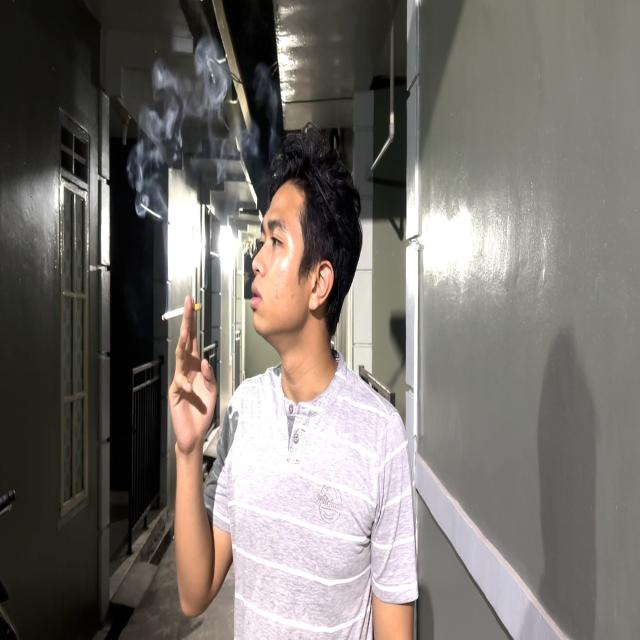cigarette: (160, 296, 208, 328)
smoking: (154, 113, 368, 639)
